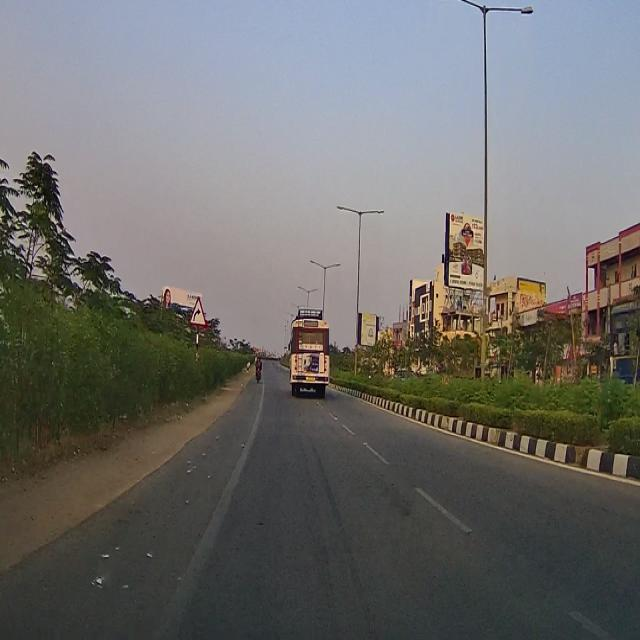right-hand-curve: (189, 297, 207, 326)
